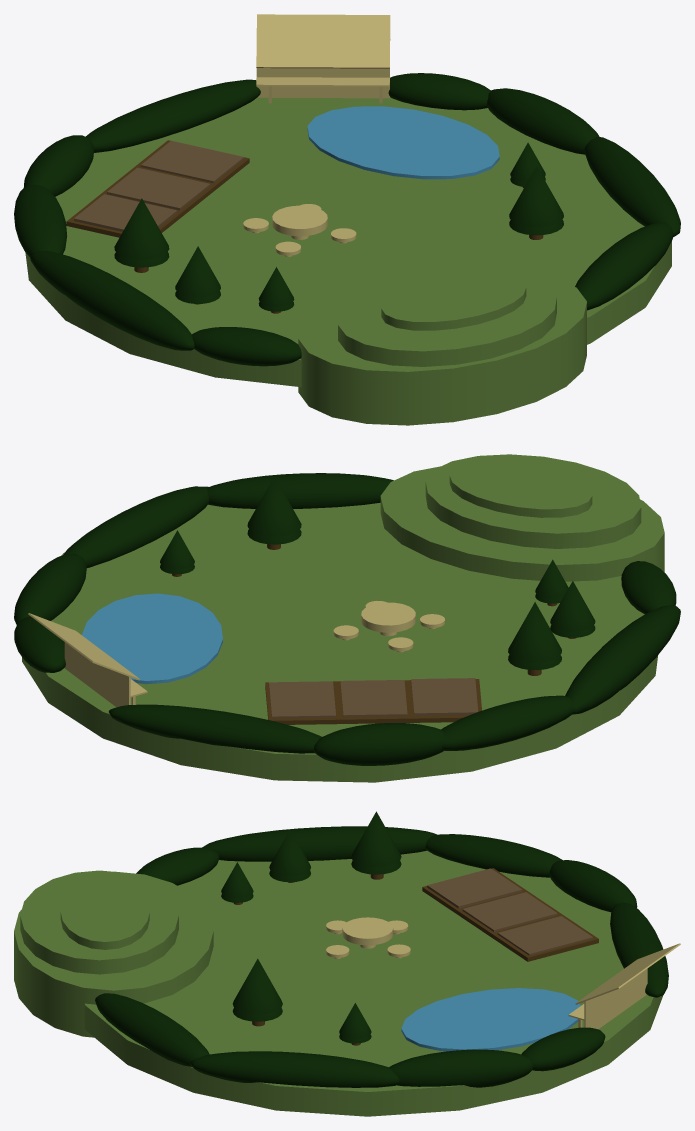
The picture shows the model from 3 angles, top to bottom: view 1: azimuth 30°, elevation 25°; view 2: azimuth 150°, elevation 25°; view 3: azimuth 270°, elevation 25°; orthographic projection. The views are drawn at different scales.
Visible parts, largest first — view 1: polySurface7; view 2: polySurface7; view 3: polySurface7.
Part boxes in pixels (x1=…): polySurface7: x1=14, y1=14, x2=680, y2=425; polySurface7: x1=14, y1=454, x2=680, y2=782; polySurface7: x1=14, y1=811, x2=680, y2=1116.
Size of the model in its own units: 333 by 60.89 by 372.
